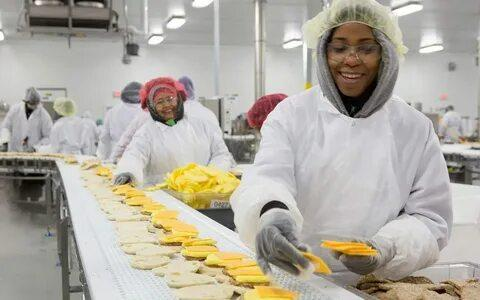hairnet: (297, 0, 404, 90), (117, 68, 155, 113), (146, 74, 188, 114), (243, 89, 281, 133), (51, 89, 81, 127), (15, 92, 47, 122)
